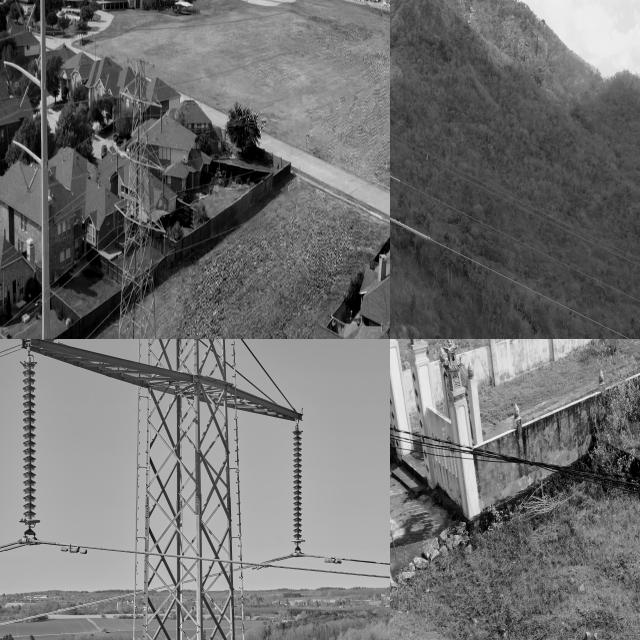杆塔: (124, 339, 257, 640), (106, 55, 173, 339)
正常电缆: (0, 564, 251, 632), (41, 537, 264, 572), (0, 533, 31, 555)
正常绝缘子: (13, 354, 43, 532), (286, 418, 310, 562), (118, 92, 124, 122), (162, 234, 168, 260), (159, 106, 164, 137), (115, 147, 120, 178), (113, 205, 117, 232)
